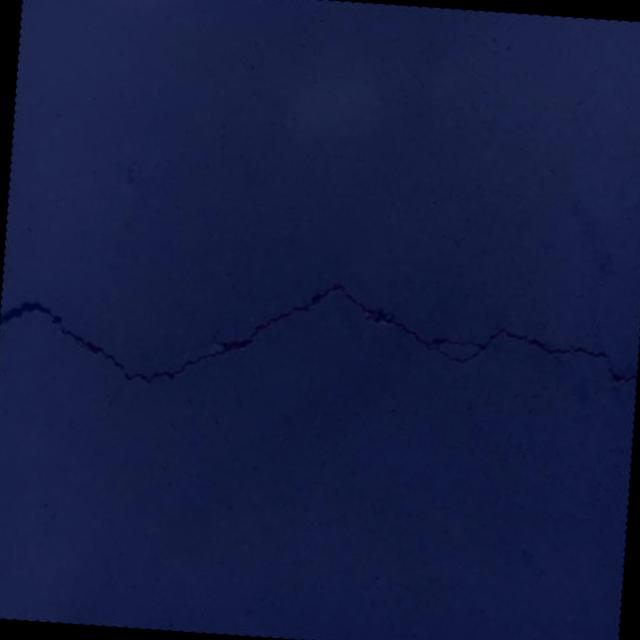crack: (0, 259, 640, 416)
